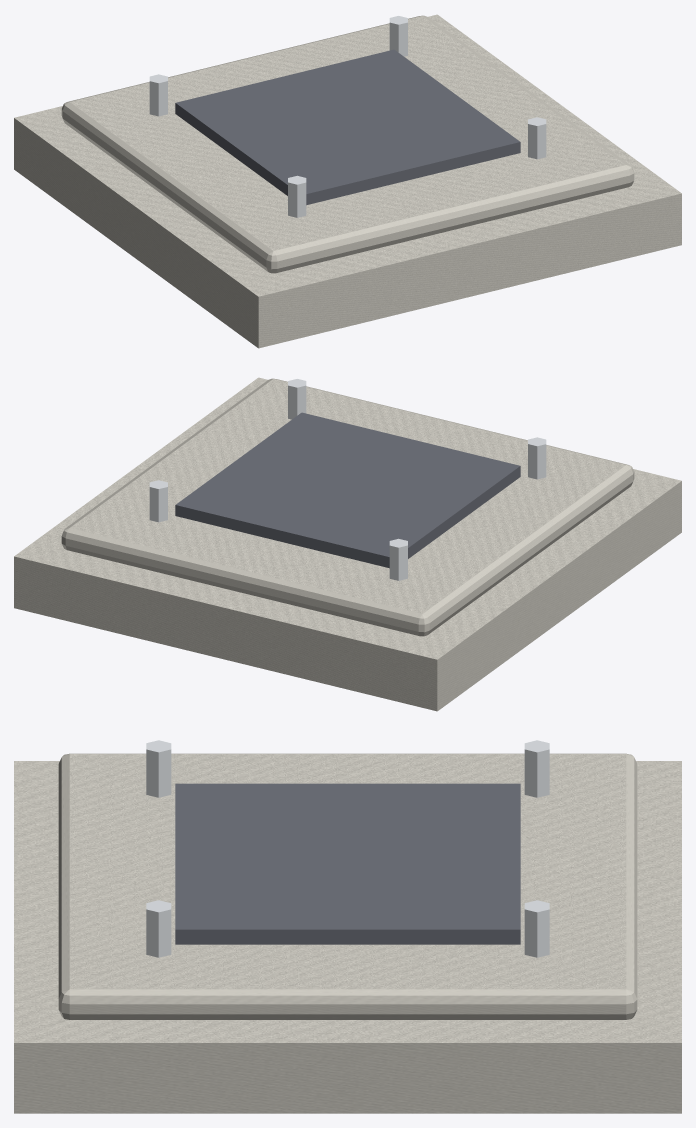
The model's file is theme-park-rides-and-coasters-theme-park-rides-and-coa-67f5b7f6__28641.glb.
3 views of the same model, one above another, from view 1: azimuth 30°, elevation 25°; view 2: azimuth 150°, elevation 25°; view 3: azimuth 270°, elevation 25° (orthographic). The views are drawn at different scales.
Parts seen in each view (by area): view 1: theme-park-rides-and-coasters-support-footer-pad; view 2: theme-park-rides-and-coasters-support-footer-pad; view 3: theme-park-rides-and-coasters-support-footer-pad.
Boxes of the visible parts, x1,y1,x2,y2 form: theme-park-rides-and-coasters-support-footer-pad: (14,14,681,348); theme-park-rides-and-coasters-support-footer-pad: (14,377,681,711); theme-park-rides-and-coasters-support-footer-pad: (14,740,681,1113).
Size of the model in its own units: 1.2 by 0.29 by 1.2.
3 materials, 1 textured.
